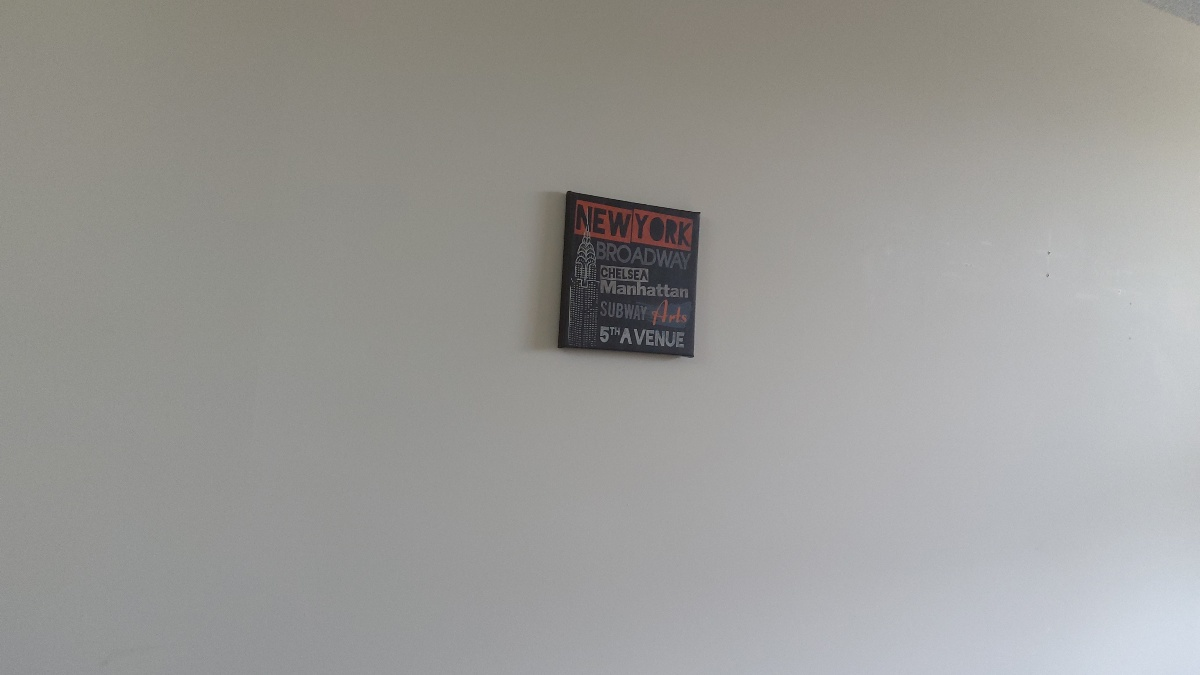poster: (549, 182, 705, 367)
